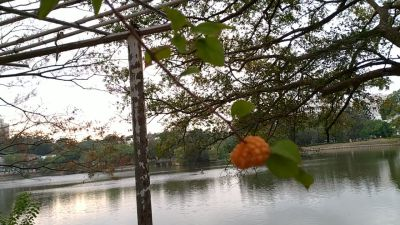eggs: (230, 134, 273, 169)
